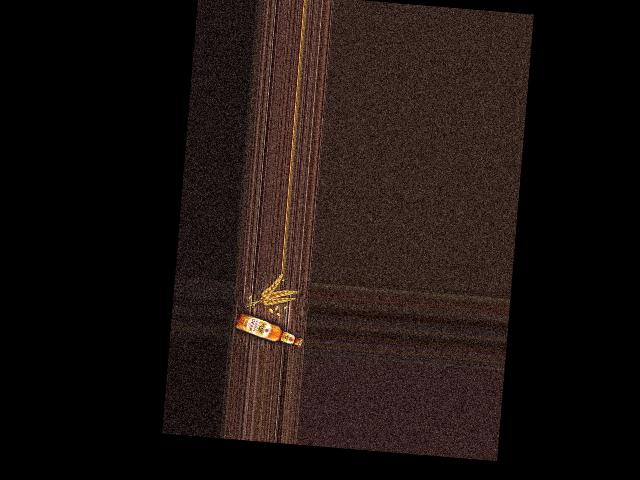beer: (233, 312, 304, 347)
